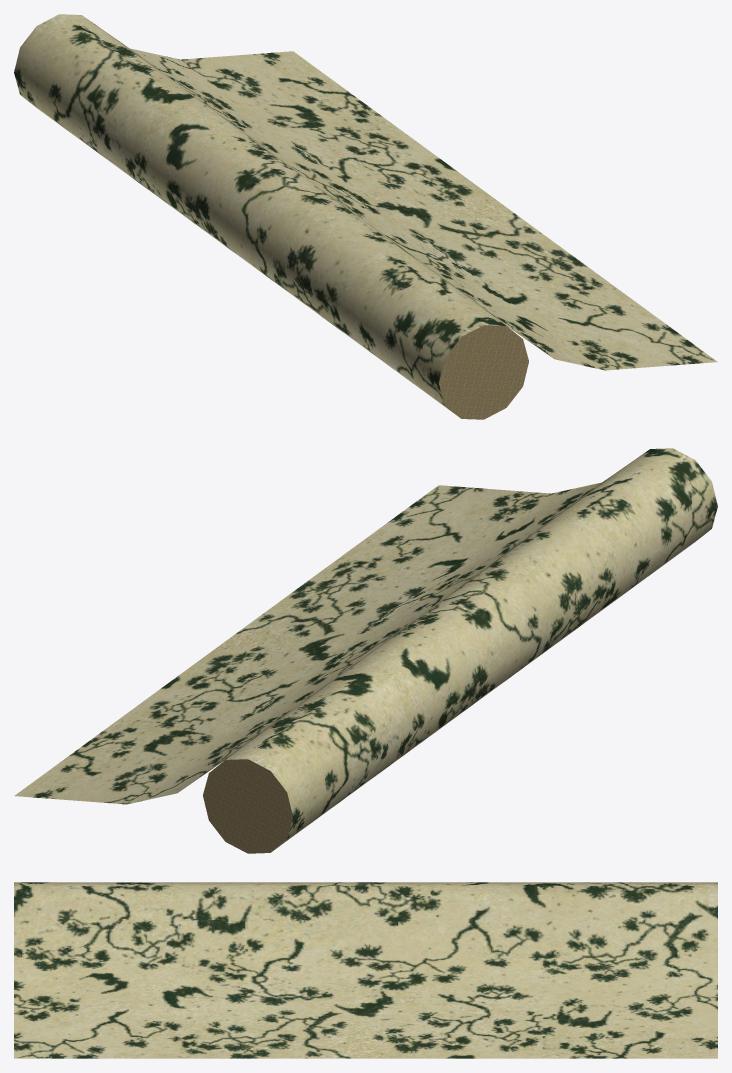
Rendered from wallpaper_roll_01.DAE.
3 renders of one model, top to bottom at view 1: azimuth 30°, elevation 25°; view 2: azimuth 150°, elevation 25°; view 3: azimuth 270°, elevation 25°, orthographic. The views are drawn at different scales.
Parts seen in each view (by area): view 1: Cylinder002, Object027; view 2: Cylinder002, Object027; view 3: Cylinder002.
Boxes of the visible parts, left/top/right/bottom form: Cylinder002: left=14, top=14, right=717, bottom=416; Object027: left=439, top=325, right=528, bottom=419; Cylinder002: left=14, top=448, right=717, bottom=850; Object027: left=203, top=759, right=292, bottom=853; Cylinder002: left=14, top=882, right=717, bottom=1058.
Bounding box in the file's own units: 0.7579 × 0.2454 × 2.
